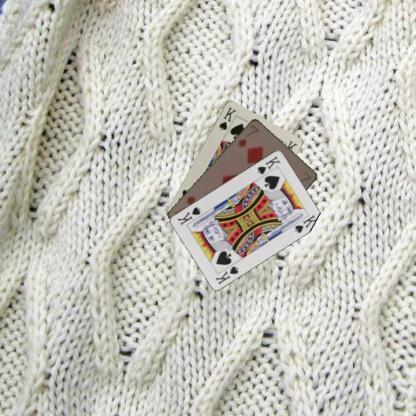7d: (236, 122, 260, 148)
Ks: (212, 262, 240, 286), (254, 153, 282, 175), (216, 104, 238, 131)
